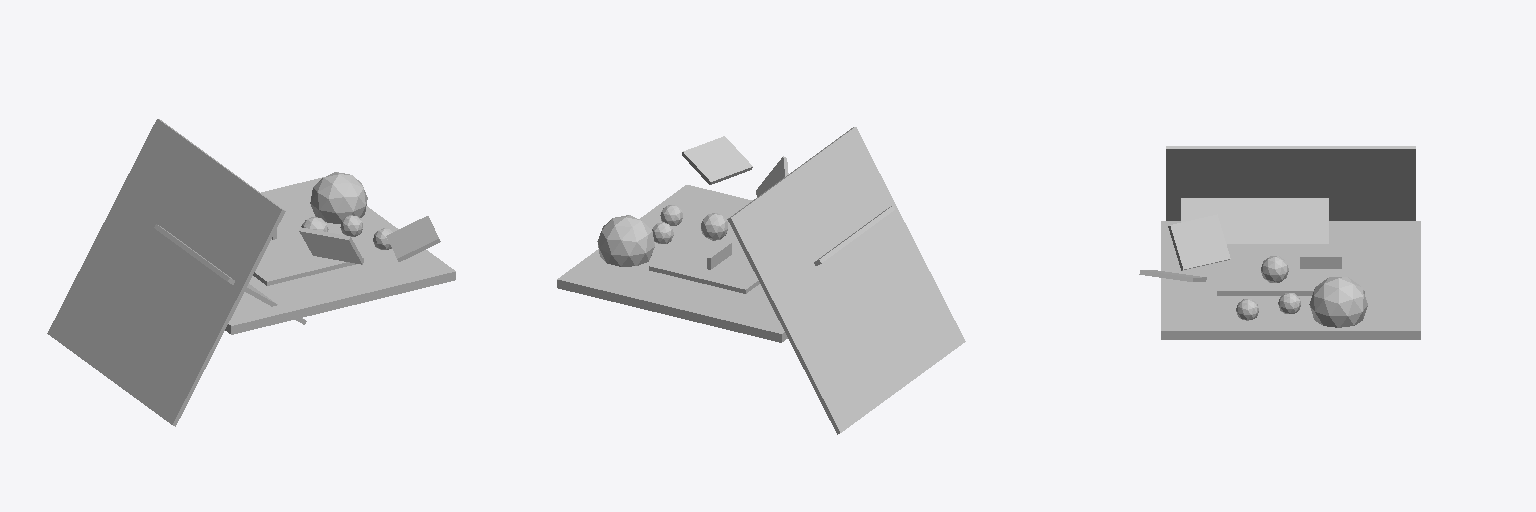
File: sdftest.obj
3 renders of one model, left to right at view 1: azimuth 30°, elevation 25°; view 2: azimuth 150°, elevation 25°; view 3: azimuth 270°, elevation 25°, orthographic.
Bounding box in the file's own units: 22.75 × 14.73 × 19.69.